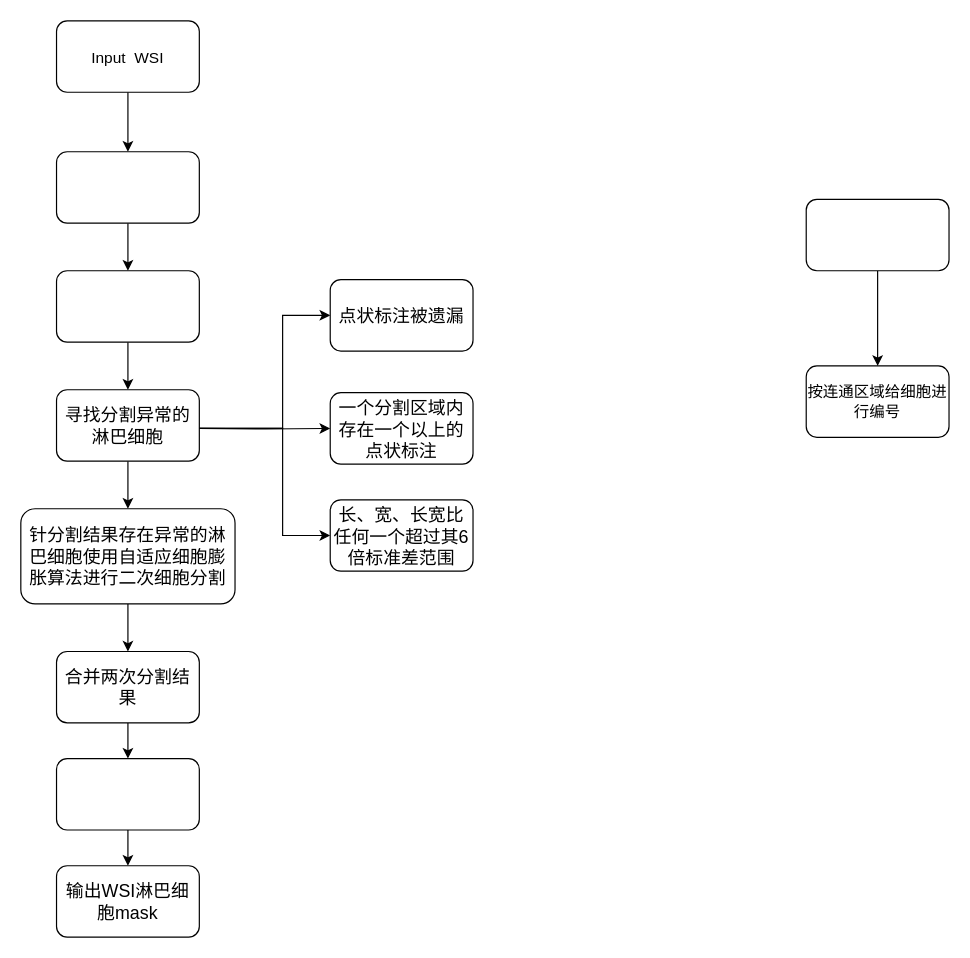
Image size: 970x958. Some labels were removed from this diagram. Here are the shapes that lost their labels. From the top down, the centre of each, then its label:
At (127,187): "切割WSI成patch".
At (877,234): "swin-hovernet细胞分割结果".
At (127,306): "使用swin-hovernet进行细胞分割".
At (127,793): "合并patch预测结果".
